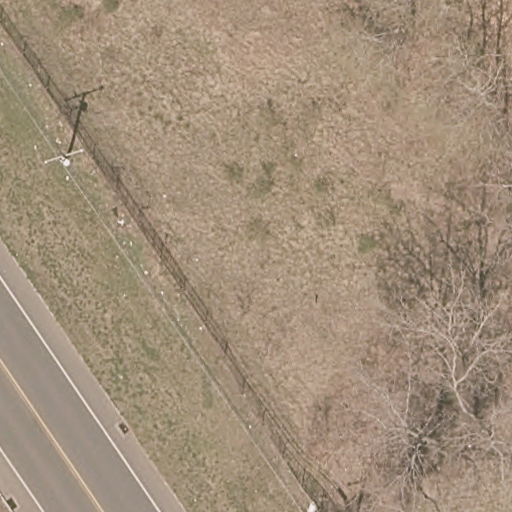DT: (41, 146, 88, 169)
